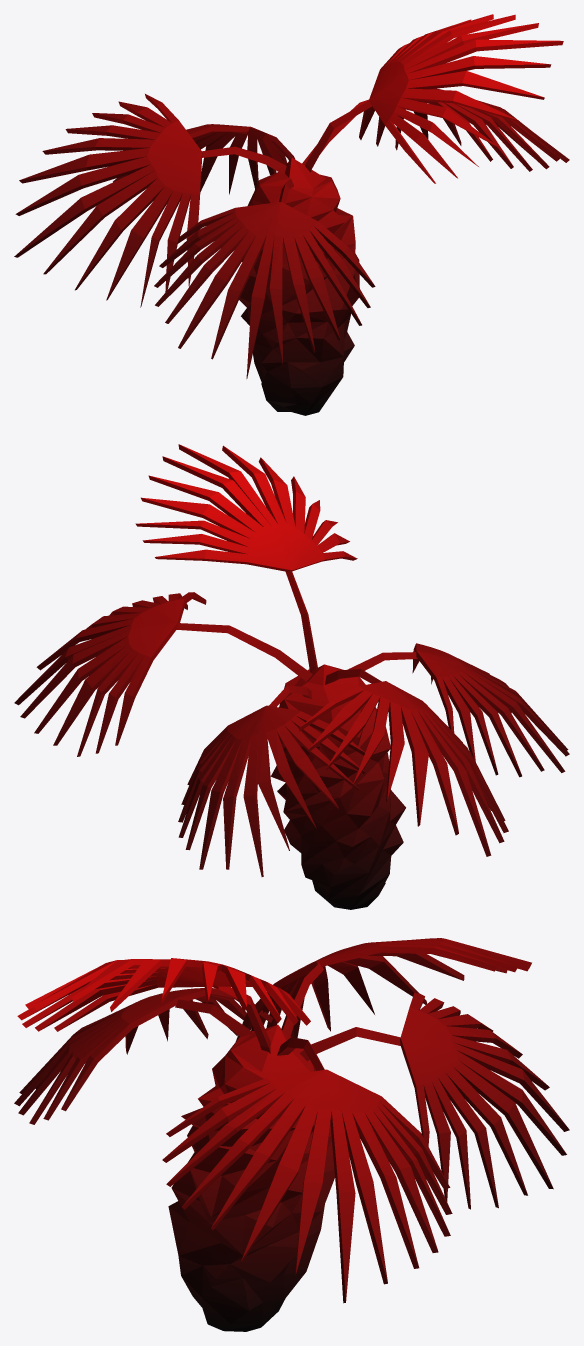
The model's file is TreeWindmill01.fbx.
The picture shows the model from 3 angles, top to bottom: view 1: azimuth 30°, elevation 25°; view 2: azimuth 150°, elevation 25°; view 3: azimuth 270°, elevation 25°; orthographic projection. The views are drawn at different scales.
Parts seen in each view (by area): view 1: TreeWindmill01_LOD0; view 2: TreeWindmill01_LOD0; view 3: TreeWindmill01_LOD0.
Boxes of the visible parts, left/top/right/bottom form: TreeWindmill01_LOD0: left=14, top=14, right=569, bottom=415; TreeWindmill01_LOD0: left=14, top=444, right=569, bottom=909; TreeWindmill01_LOD0: left=14, top=938, right=569, bottom=1331.
Size of what is drawn, in the model's own units: 449 by 311 by 344.
